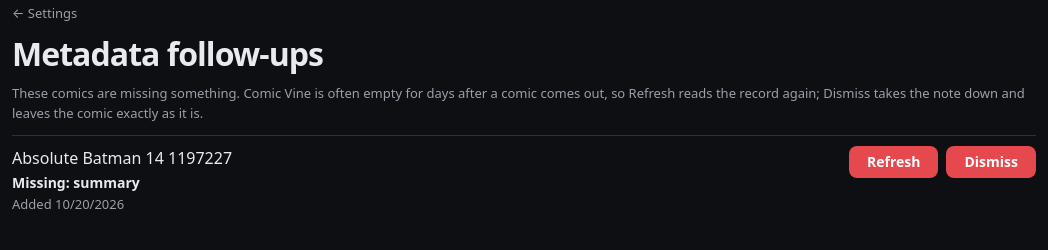
Test: a refresh Comic Vine could not answer says so, and keeps the comic listed
The width and height of the screenshot is (1048, 250).
Click the button "Refresh" at (894, 162), box left=849, top=146, right=938, bottom=178
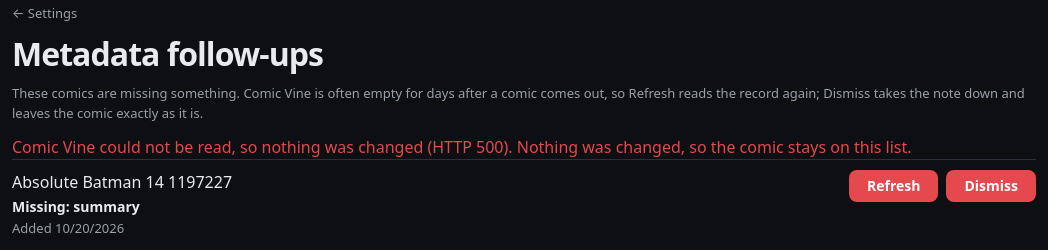
Expected: the link "Absolute Batman 14" is shown, left=12, top=171, right=164, bottom=193
Result: the text "Comic Vine could not be read" is shown at left=12, top=136, right=513, bottom=158
Result: the text "stays on this list" is shown at left=517, top=136, right=912, bottom=158
